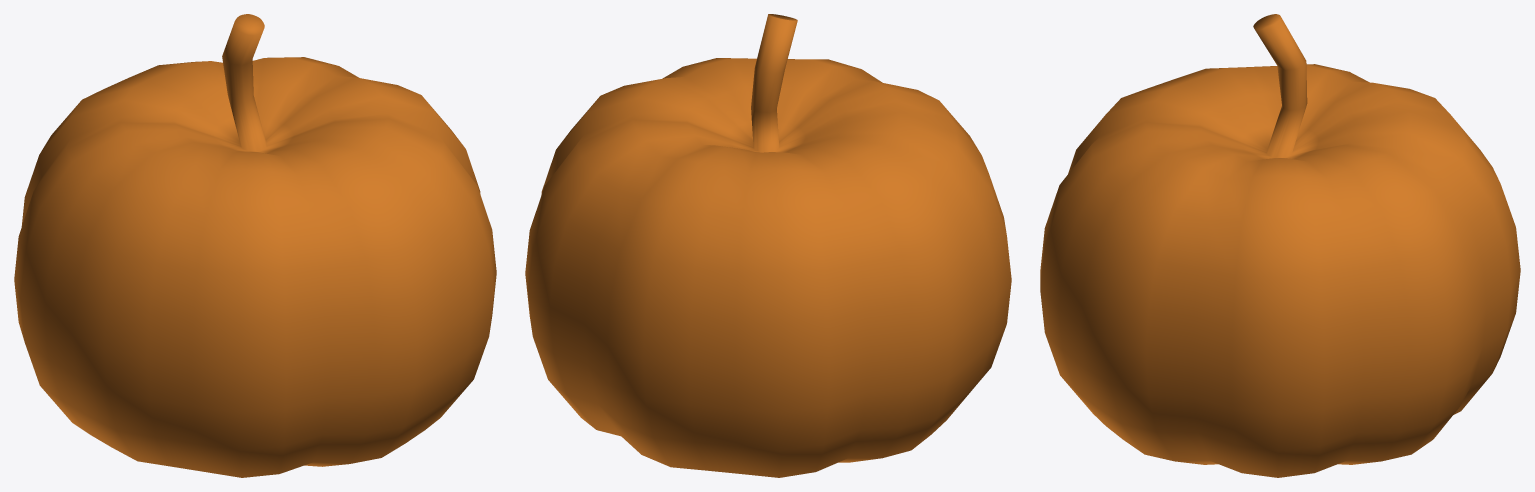
File: calabaza.fbx
The picture shows the model from 3 angles, left to right: view 1: azimuth 30°, elevation 25°; view 2: azimuth 150°, elevation 25°; view 3: azimuth 270°, elevation 25°; orthographic projection. The views are drawn at different scales.
Parts seen in each view (by area): view 1: Sphere; view 2: Sphere; view 3: Sphere.
Boxes of the visible parts, x1=… form: Sphere: x1=14, y1=14, x2=496, y2=477; Sphere: x1=525, y1=14, x2=1011, y2=477; Sphere: x1=1040, y1=14, x2=1520, y2=477.
Size of the model in its own units: 276 by 252 by 276.
1 material, 1 textured.
